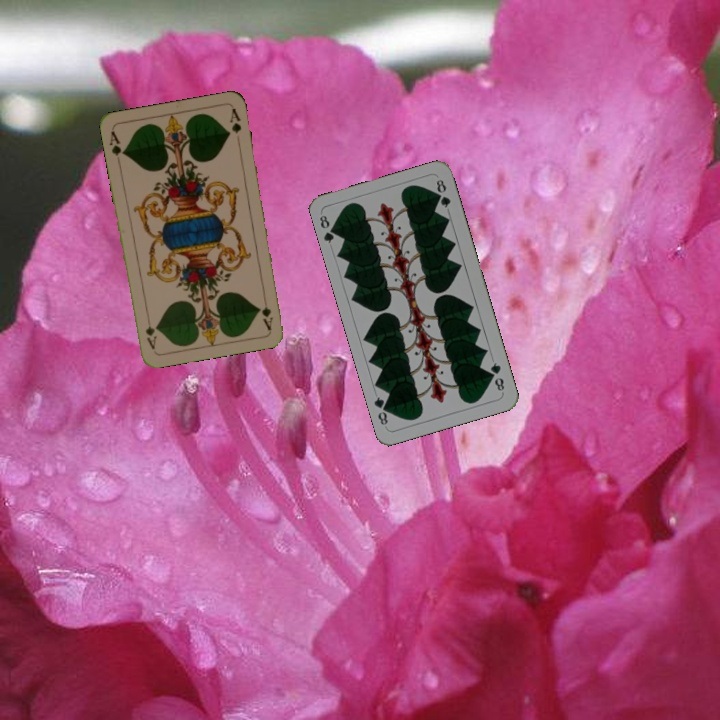G8: (315, 211, 340, 246), (486, 358, 507, 394)
GA: (105, 127, 128, 167), (258, 291, 275, 332)
